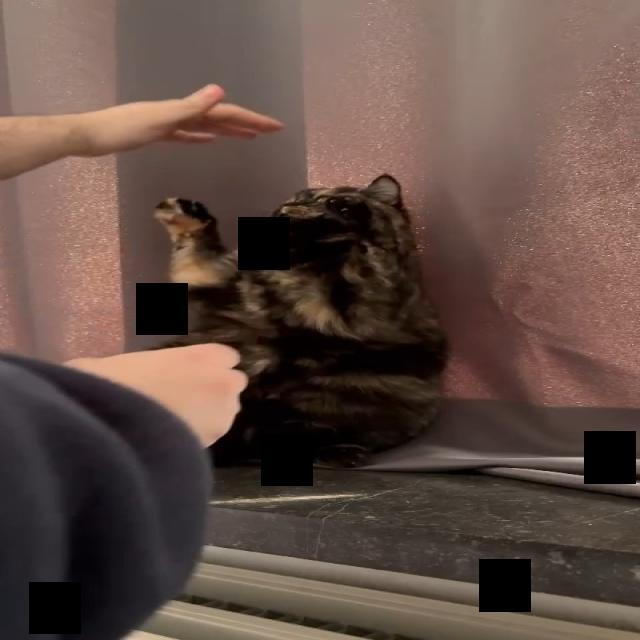authorized: (147, 172, 450, 469)
